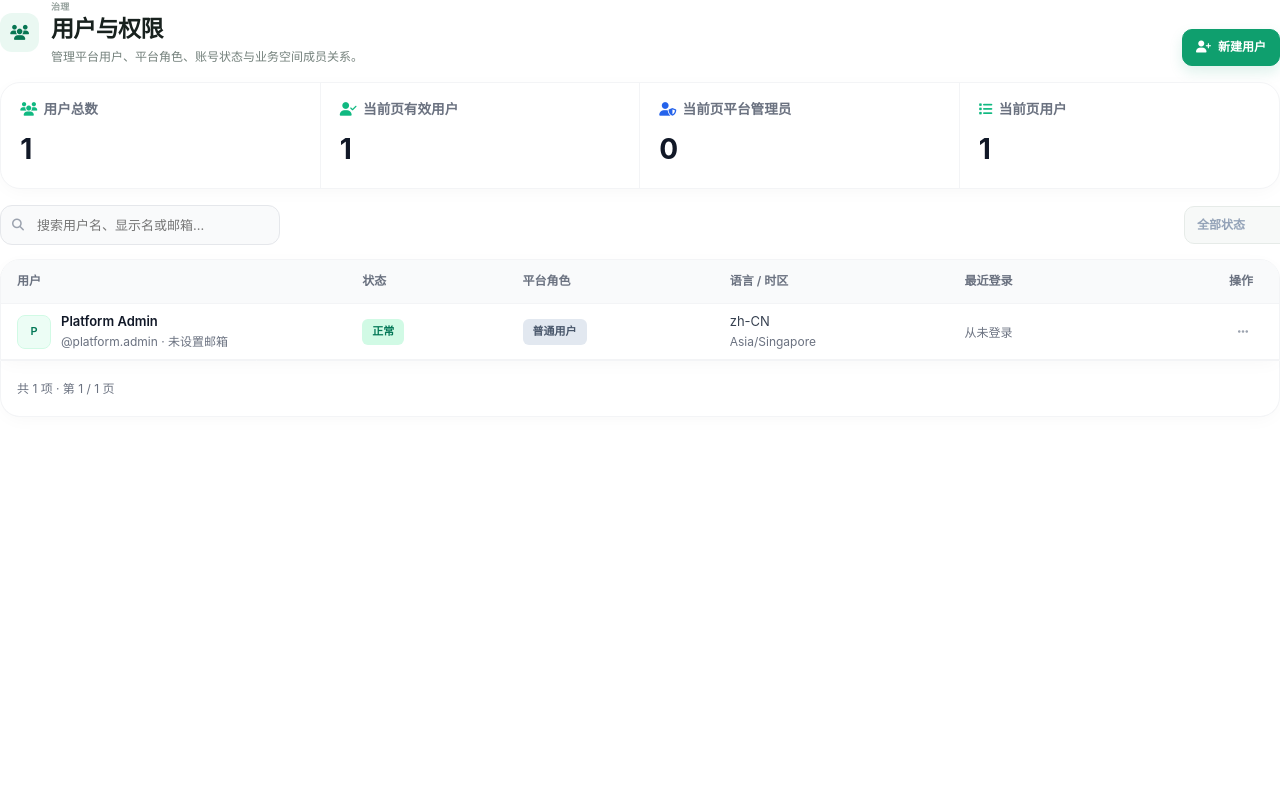
Test case: user access management view › loads and renders workspace memberships
Click the button named "用户安全操作" at coordinates (1243, 332), box [1225,314,1261,350]
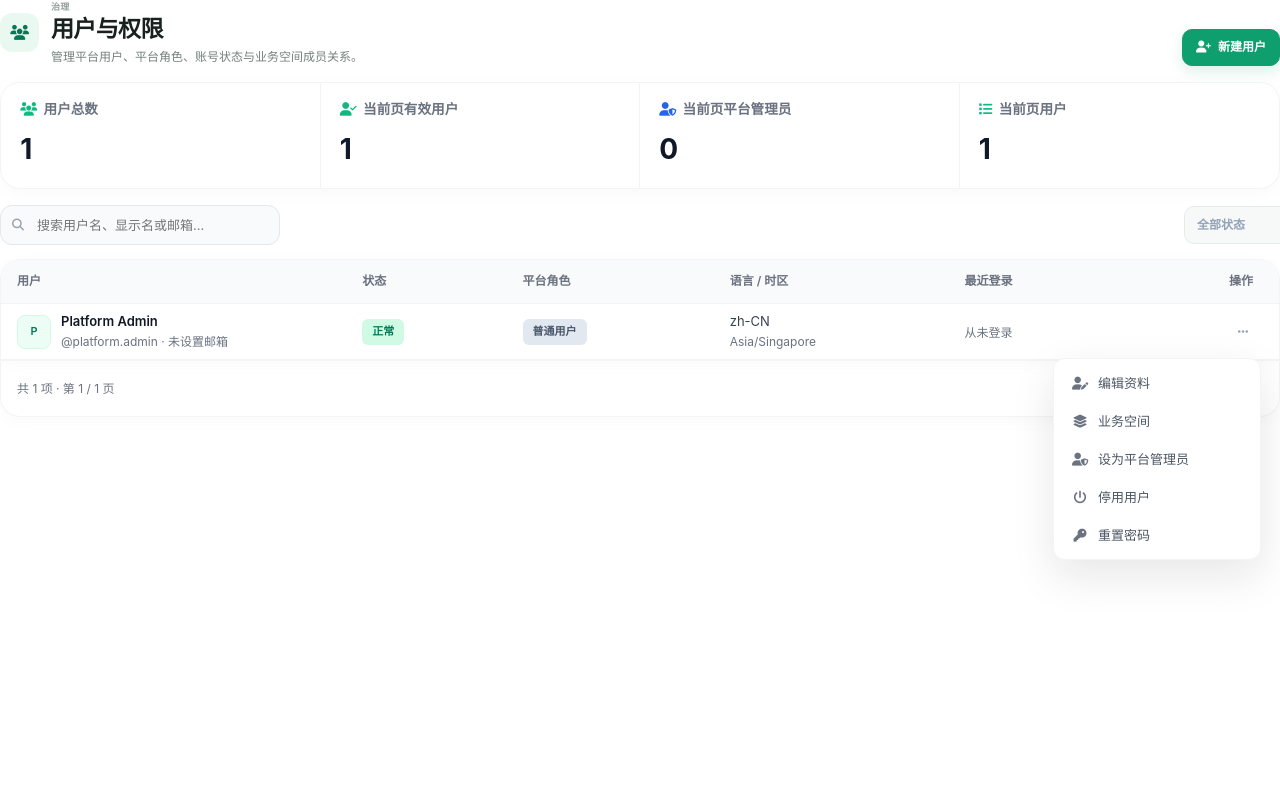
Click the menu item "业务空间" at coordinates (1157, 421), box [1060,403,1254,439]
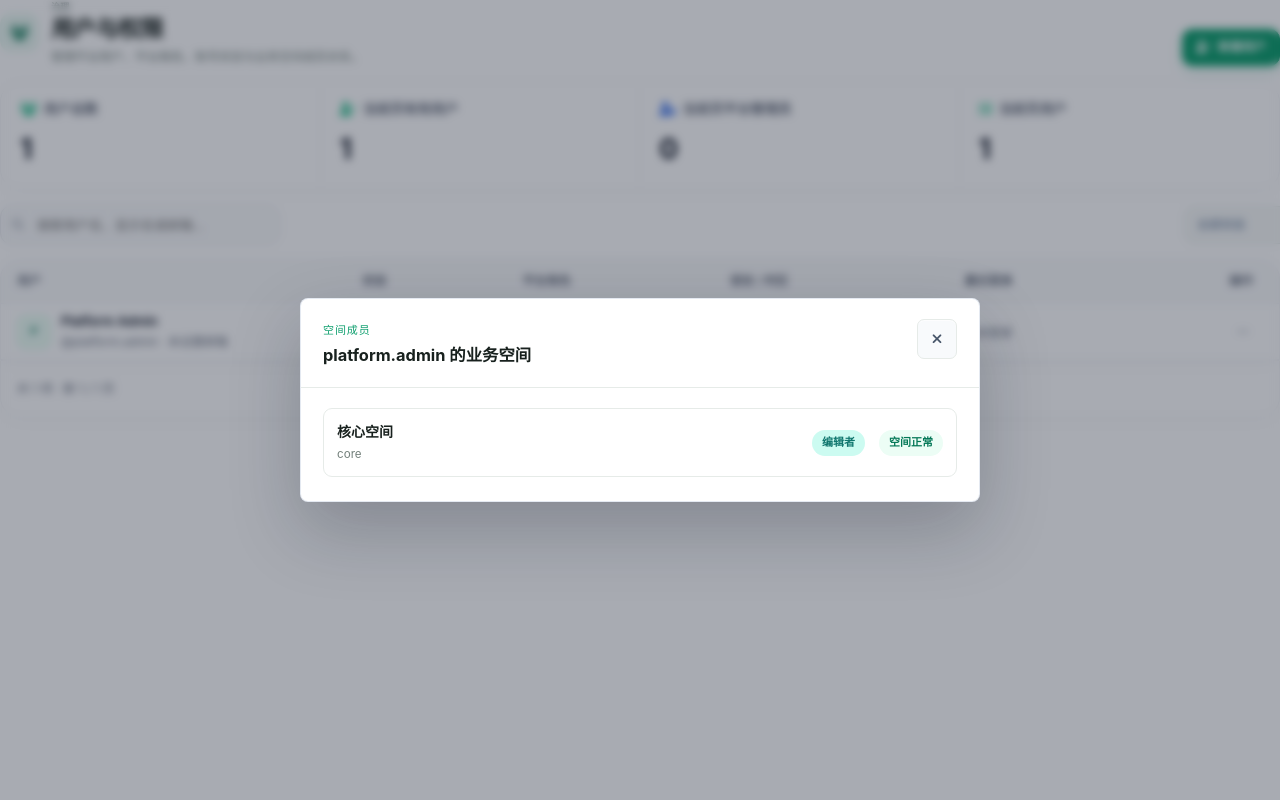
Expected: the dialog named "用户业务空间" shows "核心空间", [337,423,393,440]
Expected: the dialog named "用户业务空间" shows "编辑者", [822,434,855,448]
Expected: the text with class "user-workspace-role" reads "编辑者", [822,434,855,448]
